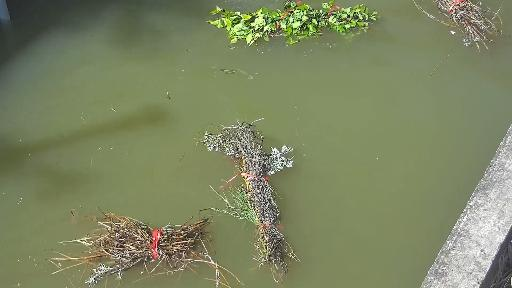twig: (190, 106, 306, 281), (77, 204, 220, 288), (213, 0, 379, 45), (408, 0, 502, 59)
